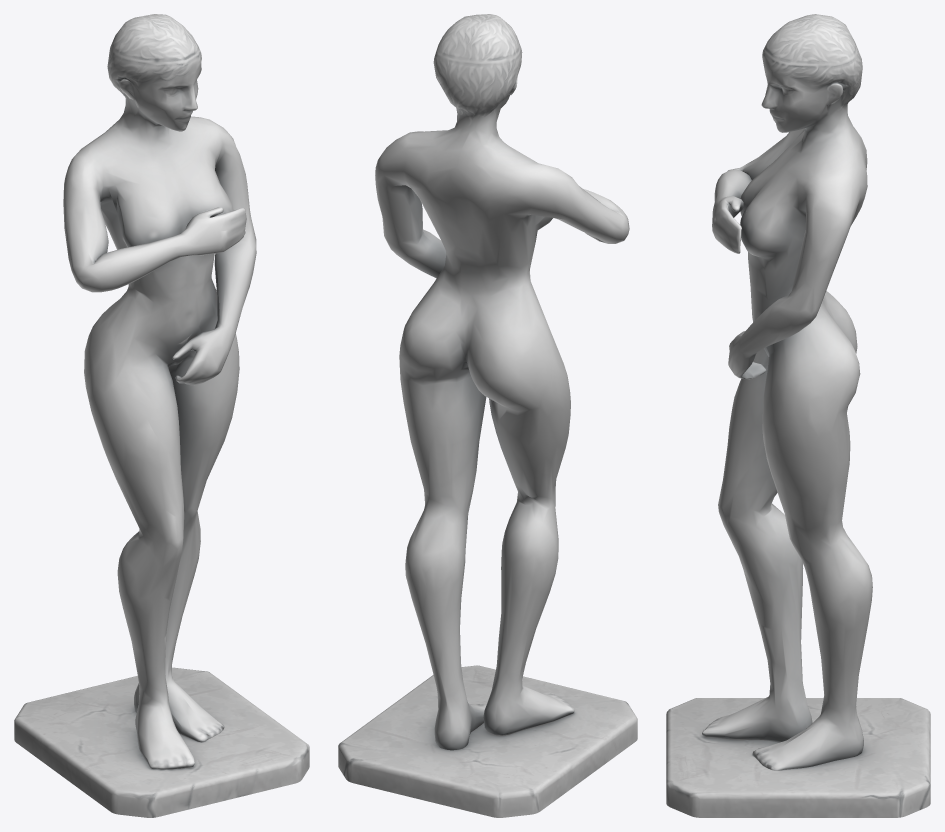
The model's file is ParkStatueGreek03_2.FBX.
The picture shows the model from 3 angles, left to right: view 1: azimuth 30°, elevation 25°; view 2: azimuth 150°, elevation 25°; view 3: azimuth 270°, elevation 25°; orthographic projection. The views are drawn at different scales.
Parts seen in each view (by area): view 1: ParkStatueGreek03_2; view 2: ParkStatueGreek03_2; view 3: ParkStatueGreek03_2.
Part boxes in pixels (left/top/right/bottom): ParkStatueGreek03_2: left=14, top=14, right=309, bottom=817; ParkStatueGreek03_2: left=338, top=14, right=637, bottom=817; ParkStatueGreek03_2: left=666, top=14, right=930, bottom=817.
Size of what is drawn, in the model's own units: 0.8077 by 2.68 by 0.858.
